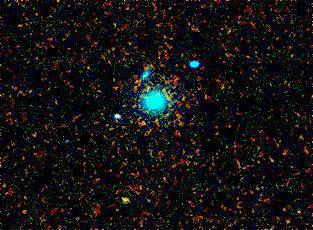star: (110, 185, 140, 215)
